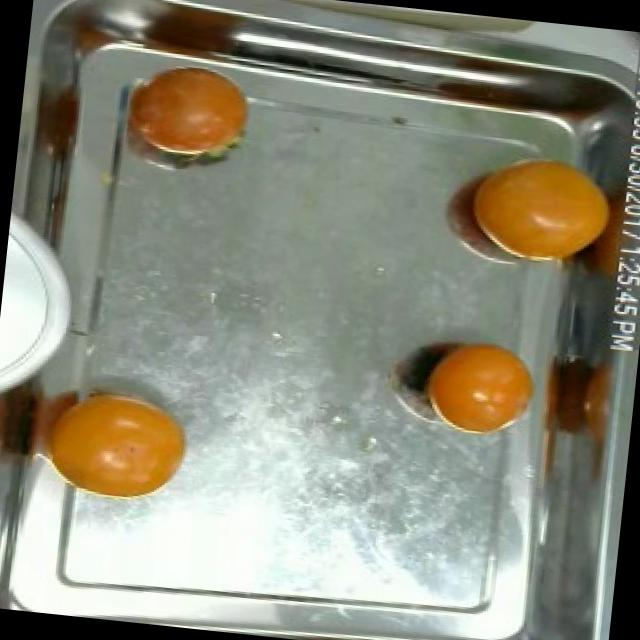Fruit: (15, 364, 204, 520), (454, 138, 622, 278), (106, 56, 270, 192), (402, 324, 548, 447)
